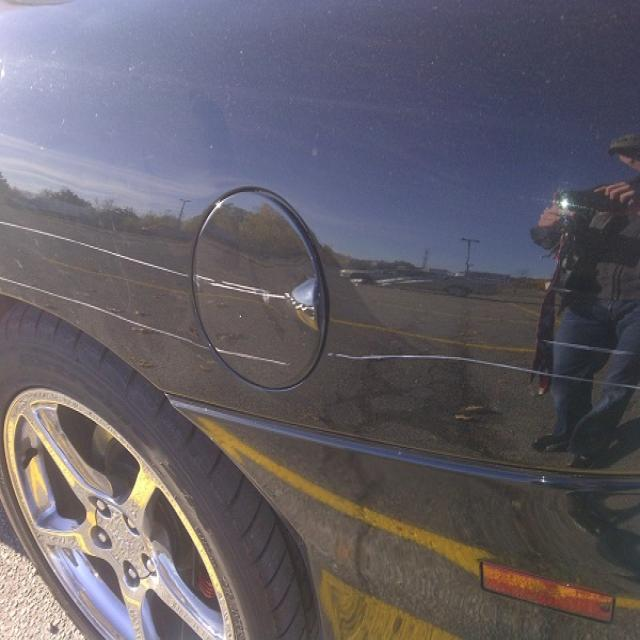scratch: (0, 273, 291, 371), (0, 217, 296, 301), (324, 346, 640, 394), (537, 336, 636, 361)
